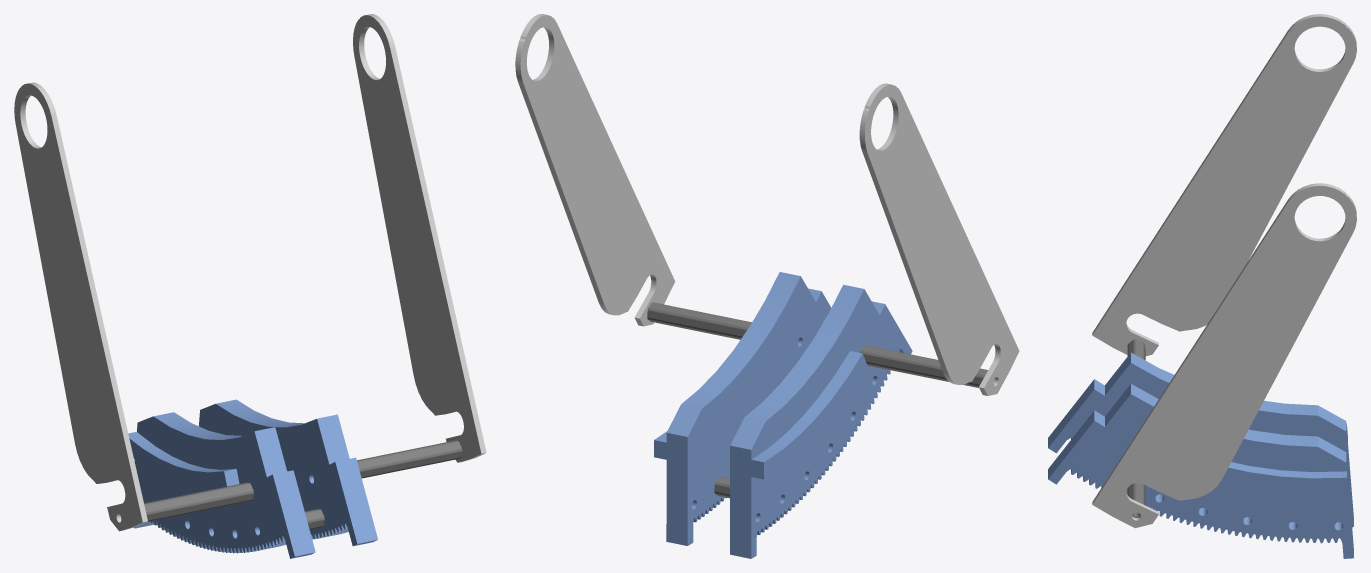
The picture shows the model from 3 angles, left to right: view 1: azimuth 30°, elevation 25°; view 2: azimuth 150°, elevation 25°; view 3: azimuth 270°, elevation 25°; orthographic projection. The views are drawn at different scales.
Visible parts, largest first — view 1: mesh277_mesh_2 (×2), mesh0_mesh_5, mesh332_mesh_275, mesh277_mesh_9 (×2), mesh332_mesh_22, mesh0_mesh_22, mesh0_mesh_4, mesh0_mesh_273, mesh332_mesh_273, mesh332_mesh_274, mesh0_mesh_274, mesh316_mesh_5 (+4 smaller); view 2: mesh277_mesh_2 (×2), mesh0_mesh_5, mesh332_mesh_275, mesh0_mesh_274, mesh332_mesh_274, mesh0_mesh_8, mesh332_mesh_8, mesh277_mesh_18 (×2), mesh0_mesh_4, mesh0_mesh_1, mesh316_mesh_7, mesh332_mesh_21 (+3 smaller); view 3: mesh277_mesh_3 (×2), mesh332_mesh_5, mesh0_mesh_275, mesh332_mesh_4, mesh277_mesh_9 (×2), mesh0_mesh_274, mesh332_mesh_274, mesh332_mesh_1, mesh0_mesh_22, mesh332_mesh_22.
Boxes of the visible parts, box(x1,y1,x2,y2) form: mesh277_mesh_2 (×2): box(14, 15, 481, 531); mesh0_mesh_5: box(134, 416, 294, 558); mesh332_mesh_275: box(199, 404, 357, 545); mesh277_mesh_9 (×2): box(51, 47, 486, 522); mesh332_mesh_22: box(335, 457, 377, 543); mesh0_mesh_22: box(273, 470, 315, 556); mesh0_mesh_4: box(129, 438, 226, 489); mesh0_mesh_273: box(254, 427, 287, 477); mesh332_mesh_273: box(317, 414, 349, 464); mesh332_mesh_274: box(216, 399, 304, 427); mesh0_mesh_274: box(153, 412, 241, 439); mesh316_mesh_5: box(144, 484, 253, 512); mesh277_mesh_2 (×2): box(520, 15, 1019, 395); mesh0_mesh_5: box(751, 289, 912, 558); mesh332_mesh_275: box(687, 276, 831, 545); mesh0_mesh_274: box(745, 284, 864, 421); mesh332_mesh_274: box(681, 272, 800, 408); mesh0_mesh_8: box(730, 445, 763, 558); mesh332_mesh_8: box(654, 433, 687, 545); mesh277_mesh_18 (×2): box(518, 82, 948, 373); mesh0_mesh_4: box(764, 354, 867, 479); mesh0_mesh_1: box(754, 351, 862, 460); mesh316_mesh_7: box(647, 310, 746, 336); mesh332_mesh_21: box(667, 404, 701, 436); mesh277_mesh_3 (×2): box(1092, 16, 1356, 528); mesh332_mesh_5: box(1048, 394, 1353, 558); mesh0_mesh_275: box(1048, 363, 1353, 527); mesh332_mesh_4: box(1221, 467, 1347, 493); mesh277_mesh_9 (×2): box(1092, 31, 1287, 503); mesh0_mesh_274: box(1131, 352, 1317, 415); mesh332_mesh_274: box(1131, 384, 1317, 446); mesh332_mesh_1: box(1228, 462, 1342, 478); mesh0_mesh_22: box(1048, 379, 1094, 447); mesh332_mesh_22: box(1048, 411, 1094, 478).
Bounding box in the file's own units: 0.218 × 0.2807 × 0.1726.
